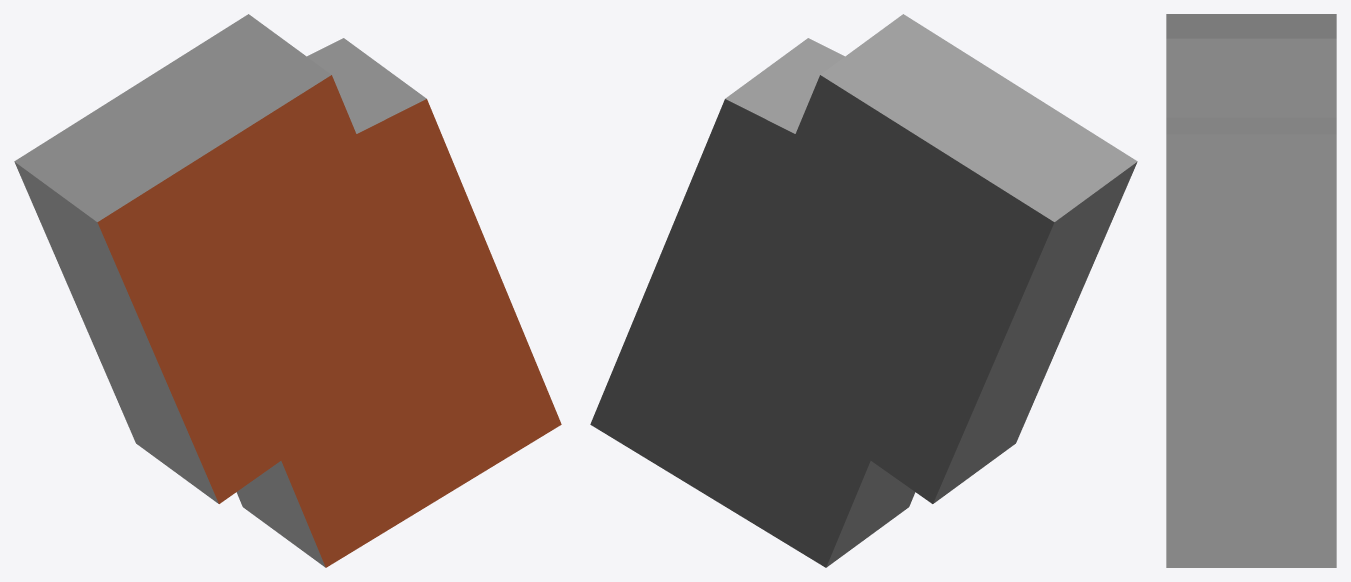
Rendered from construction_4442_assumed_A_Casa_h6m.obj.
3 views of the same model, side by side, from view 1: azimuth 30°, elevation 25°; view 2: azimuth 150°, elevation 25°; view 3: azimuth 270°, elevation 25° (orthographic). The views are drawn at different scales.
Visible parts, largest first — view 1: construction_4442_assumed_A_Casa; view 2: construction_4442_assumed_A_Casa; view 3: construction_4442_assumed_A_Casa.
Part boxes in pixels (x1=…): construction_4442_assumed_A_Casa: x1=14, y1=14, x2=561, y2=567; construction_4442_assumed_A_Casa: x1=590, y1=14, x2=1137, y2=567; construction_4442_assumed_A_Casa: x1=1166, y1=14, x2=1336, y2=567.
Bounding box in the file's own units: 19.34 × 19.57 × 6.
